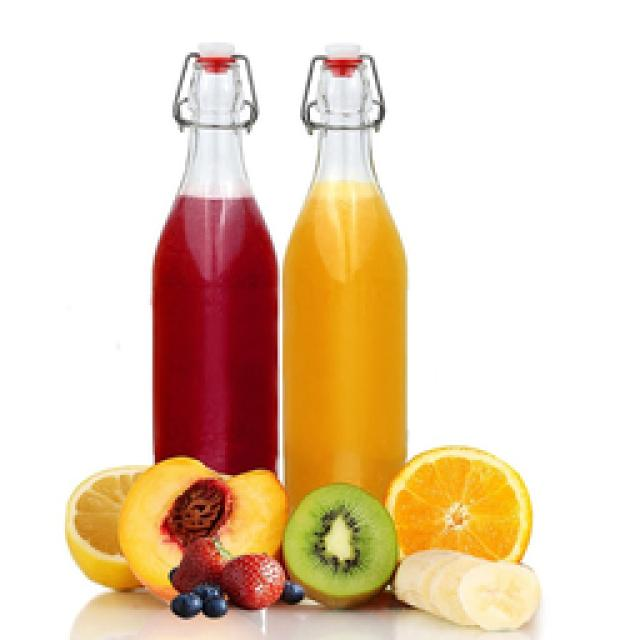glass_beverage_bottles: (288, 45, 407, 482), (157, 45, 273, 463)
